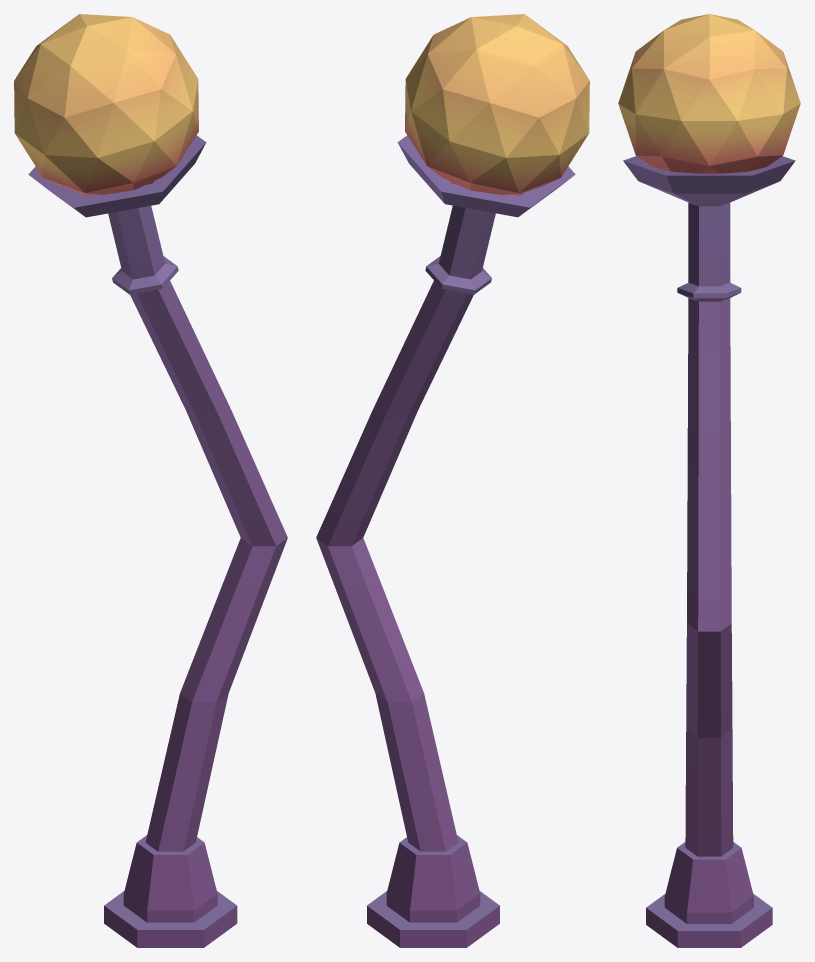
File: lantern002.obj
3 views of the same model, side by side, from view 1: azimuth 30°, elevation 25°; view 2: azimuth 150°, elevation 25°; view 3: azimuth 270°, elevation 25° (orthographic). The views are drawn at different scales.
Parts seen in each view (by area): view 1: Lantern.002; view 2: Lantern.002; view 3: Lantern.002.
Boxes of the visible parts, x1=… form: Lantern.002: x1=14, y1=14, x2=287, y2=947; Lantern.002: x1=316, y1=14, x2=589, y2=947; Lantern.002: x1=618, y1=14, x2=800, y2=947.
Size of the model in its own units: 3.63 by 12.5 by 2.37.
Materials: 1 (1 with a texture image).
